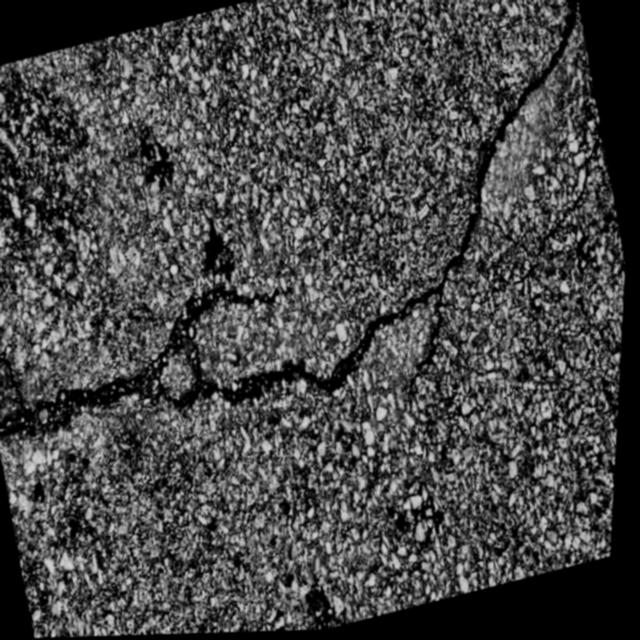cracks: (0, 0, 599, 439)
